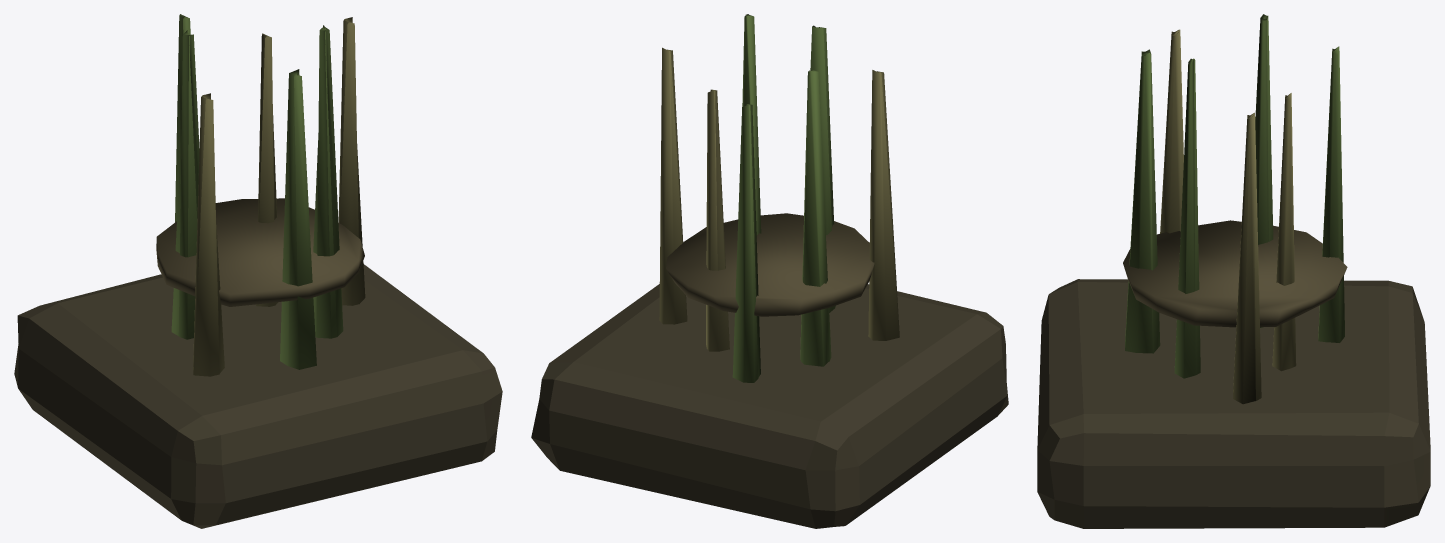
Rendered from wall_region2_v1.glb.
3 views of the same model, side by side, from view 1: azimuth 30°, elevation 25°; view 2: azimuth 150°, elevation 25°; view 3: azimuth 270°, elevation 25° (orthographic). The views are drawn at different scales.
Parts seen in each view (by area): view 1: wall_region2_v1; view 2: wall_region2_v1; view 3: wall_region2_v1.
Part boxes in pixels (bbox=[...]): wall_region2_v1: bbox=[14, 14, 502, 528]; wall_region2_v1: bbox=[531, 14, 1008, 528]; wall_region2_v1: bbox=[1037, 14, 1430, 528].
Size of the model in its own units: 0.9417 by 1.14 by 0.9541.
